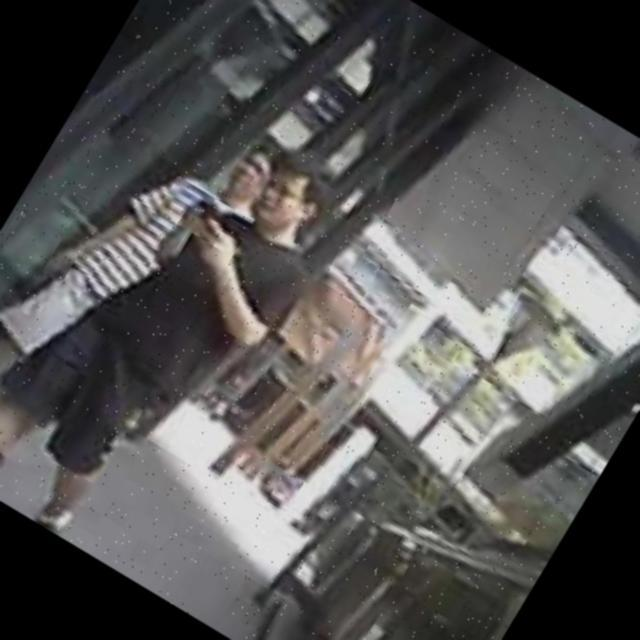person: (0, 77, 365, 580), (0, 53, 288, 521)
